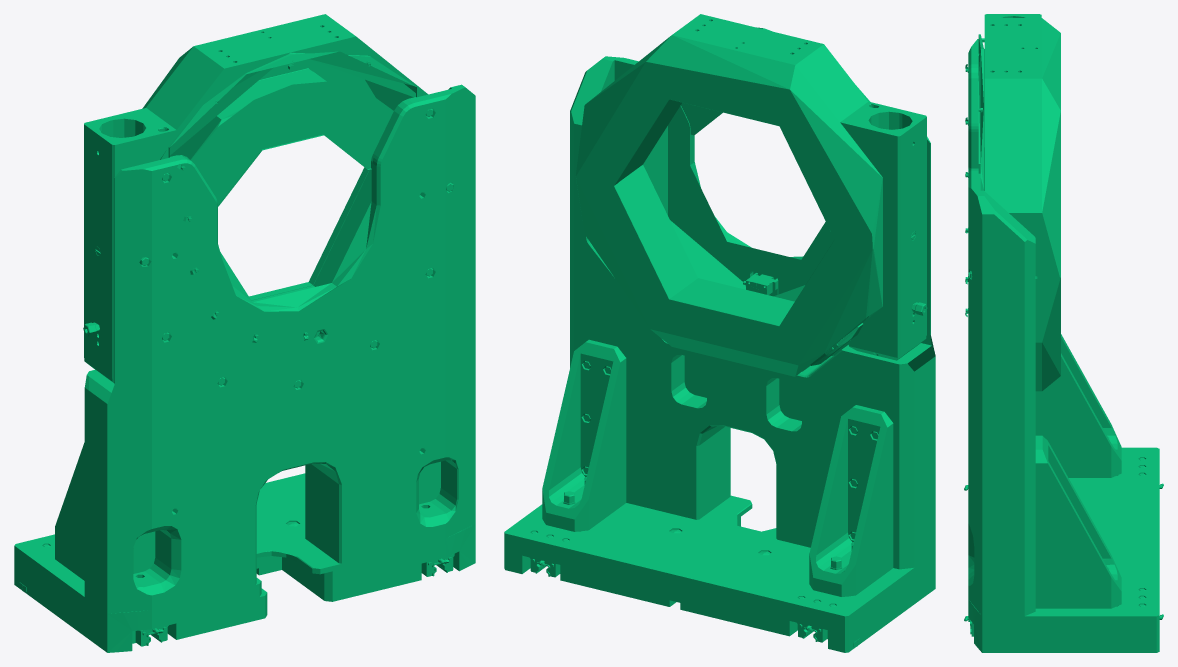
The model's file is transl_eta.dae.
3 renders of one model, left to right at view 1: azimuth 30°, elevation 25°; view 2: azimuth 150°, elevation 25°; view 3: azimuth 270°, elevation 25°, orthographic. The views are drawn at different scales.
Parts seen in each view (by area): view 1: node0; view 2: node0; view 3: node0.
Part boxes in pixels (x1,y1,x2,y2): node0: (14,14,475,652); node0: (504,14,935,652); node0: (964,14,1163,652).
Size of the model in its own units: 0.5875 by 0.2908 by 0.8421.
